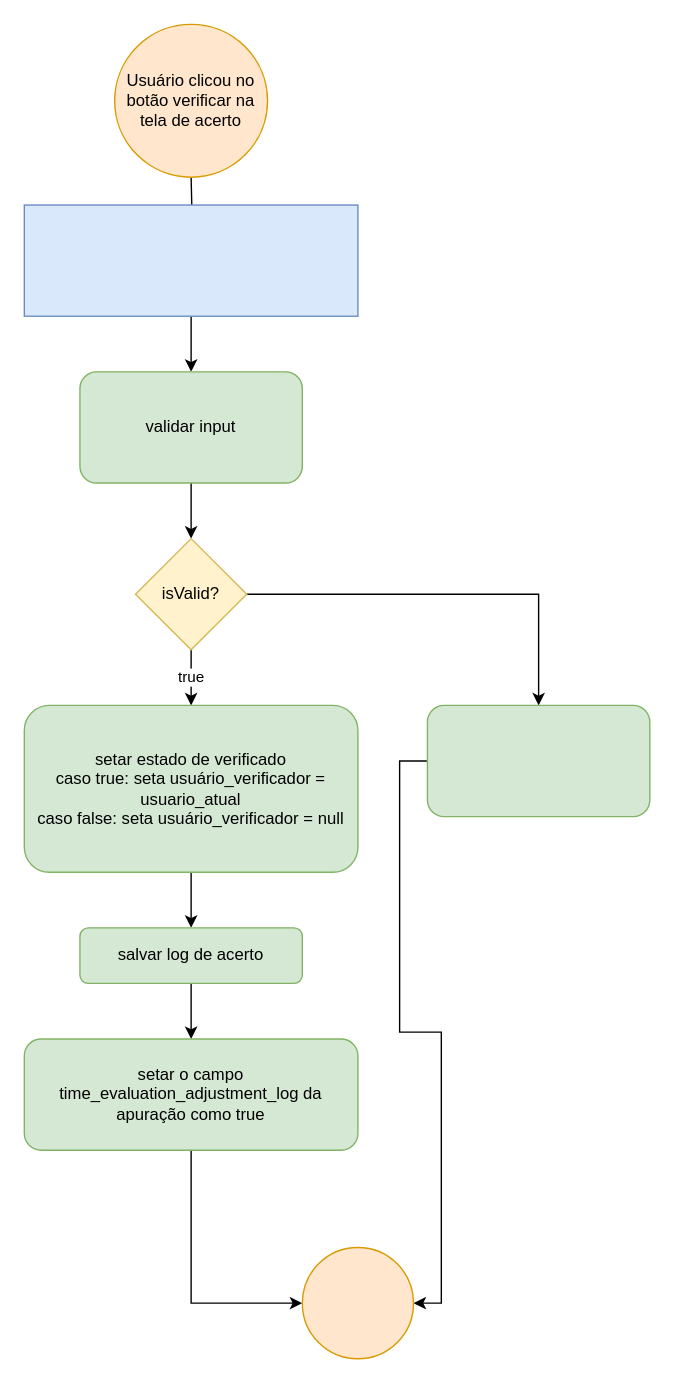
Some shapes in this 674 by 1383 pixel diagram are drawn without their labels. Each missing label, with the centre of its shape:
"Fim" goes at pixel 357 1302.
"hcm-clocking-event-time-evaluation-engine-bff" goes at pixel 190 260.
"retorna mensagem com o erro" goes at pixel 538 760.
